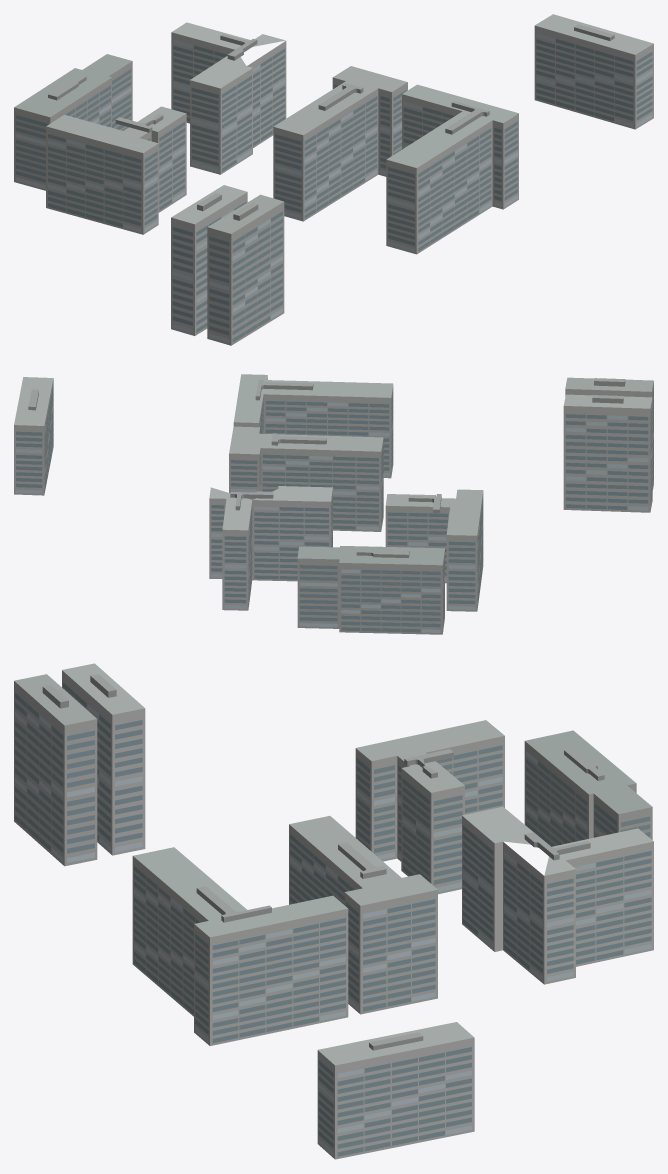
The model's file is apt-a15883201.glb.
3 renders of one model, top to bottom at view 1: azimuth 30°, elevation 25°; view 2: azimuth 150°, elevation 25°; view 3: azimuth 270°, elevation 25°, orthographic. The views are drawn at different scales.
Parts seen in each view (by area): view 1: apt-a15883201; view 2: apt-a15883201; view 3: apt-a15883201.
Part boxes in pixels (x1,y1,x2,y2): apt-a15883201: (14, 14, 653, 345); apt-a15883201: (14, 374, 653, 634); apt-a15883201: (14, 663, 653, 1159).
Size of the model in its own units: 248 by 47.81 by 189.
